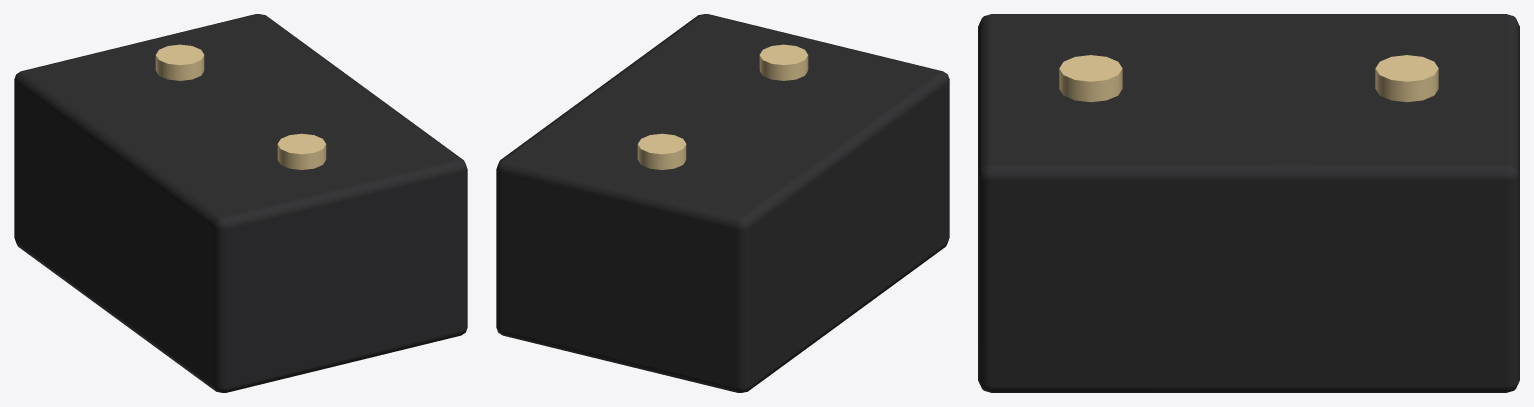
The model's file is bike_cafe_racer__battery.glb.
3 renders of one model, left to right at view 1: azimuth 30°, elevation 25°; view 2: azimuth 150°, elevation 25°; view 3: azimuth 270°, elevation 25°, orthographic. The views are drawn at different scales.
Visible parts, largest first — view 1: electrical__battery, electrical__battery__terminals; view 2: electrical__battery, electrical__battery__terminals; view 3: electrical__battery, electrical__battery__terminals.
Part boxes in pixels (x1,y1,x2,y2): electrical__battery: (14, 14, 467, 392); electrical__battery__terminals: (155, 44, 326, 169); electrical__battery: (496, 14, 949, 392); electrical__battery__terminals: (637, 44, 808, 169); electrical__battery: (978, 14, 1519, 392); electrical__battery__terminals: (1059, 55, 1438, 102).
Bounding box in the file's own units: 8.4 × 6.1 × 12.
